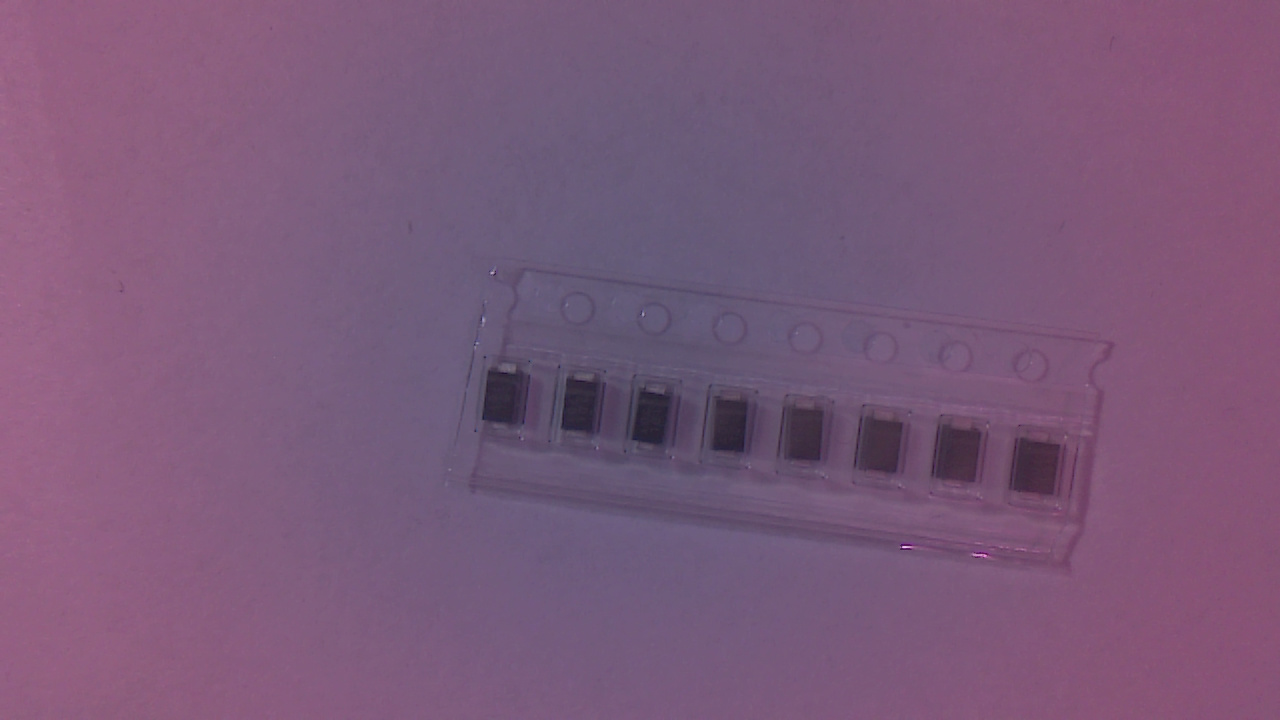Diode: (935, 415, 991, 498), (1013, 433, 1068, 511), (703, 394, 760, 464), (857, 410, 910, 485), (483, 366, 536, 440), (781, 402, 833, 475), (633, 383, 680, 461), (561, 375, 612, 444)
